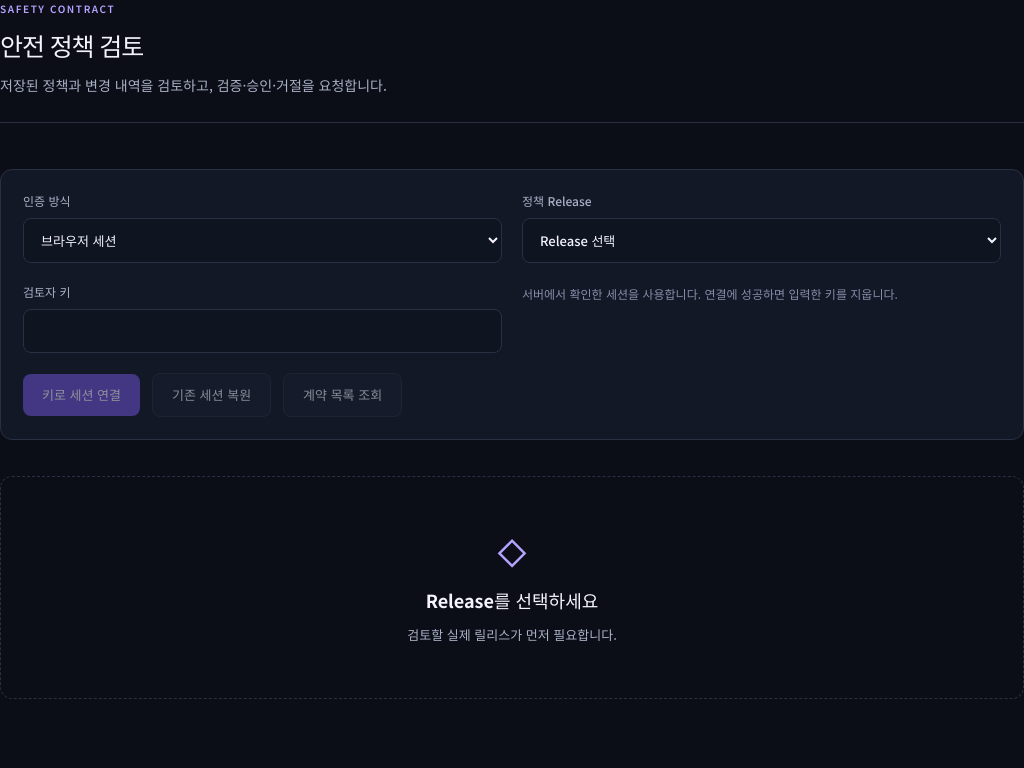
Test: stored contract page selection and authority › requires a real release and explicit credential apply without auto-selecting the first release
The image size is (1024, 768).
Expected: the heading "안전 정책 검토" is shown, x1=0 y1=27 x2=143 y2=63
Expected: the dropdown labelled "정책 Release" shows "Release 선택", x1=522 y1=218 x2=1001 y2=263
Select "로컬 개발 키" in the dropdown labelled "인증 방식" at (262, 241), box x1=23 y1=218 x2=502 y2=263
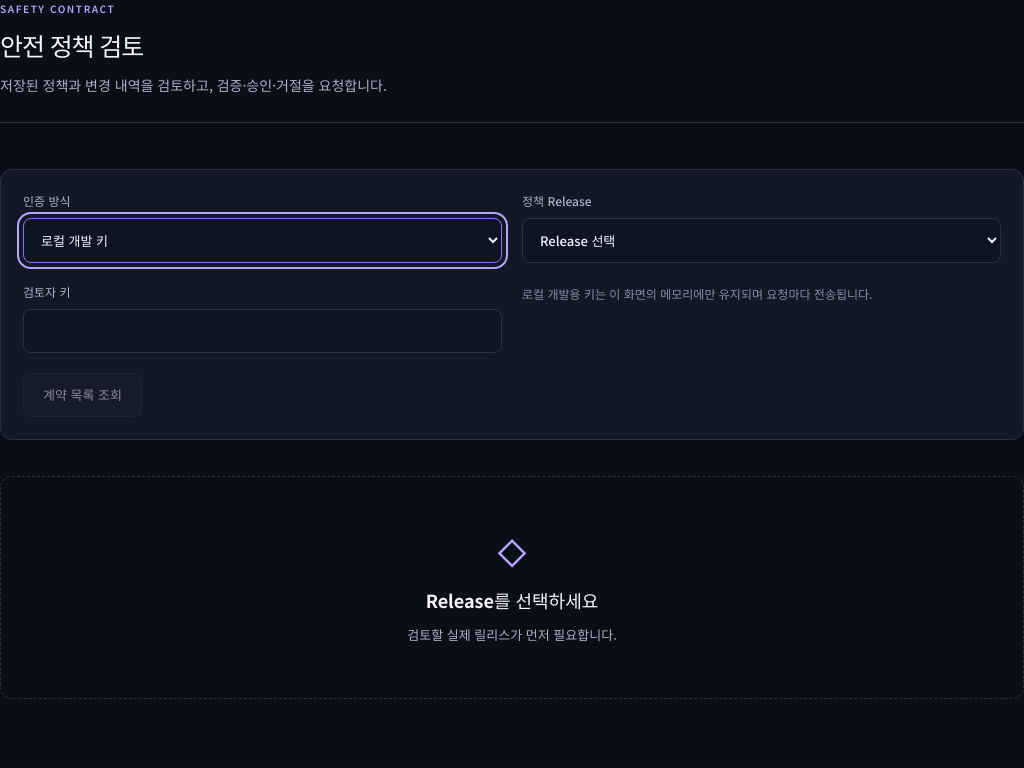
Expected: the button "계약 목록 조회" is disabled, x1=23 y1=373 x2=142 y2=417
Type "SYNTHETIC_PAGE_REVIEWER_CANARY_0123456789" into the password field labelled "검토자 키" at (262, 331), box x1=23 y1=309 x2=502 y2=353
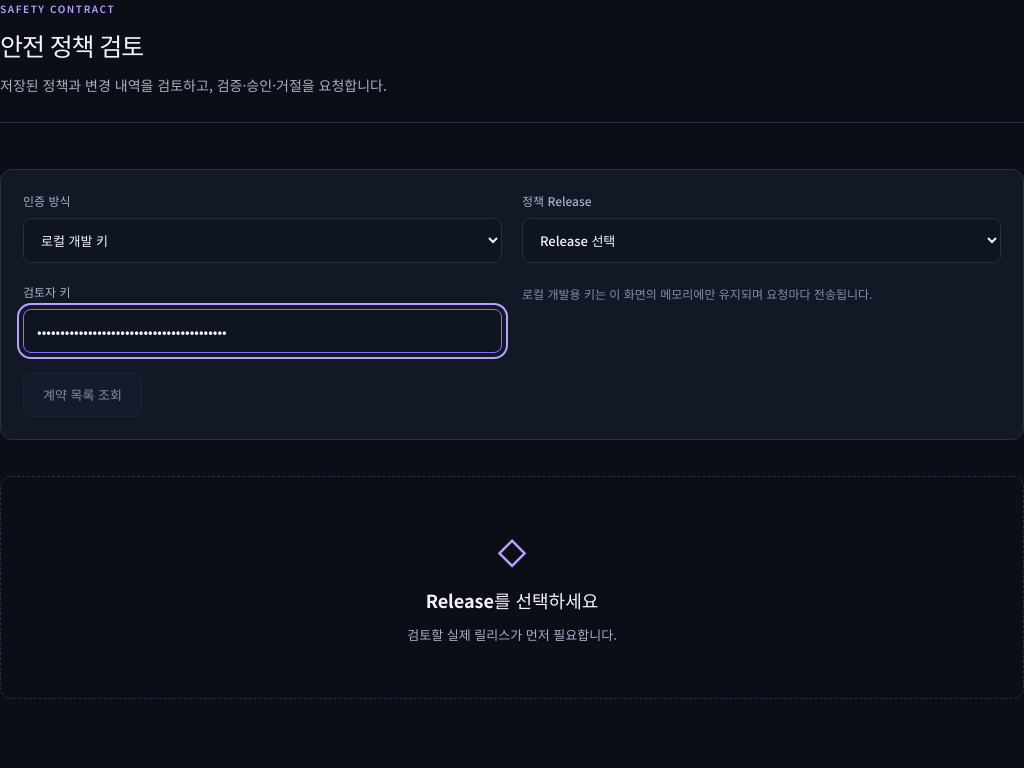
Select "019903ac-abcd-7000-8000-000000000002" in the dropdown labelled "정책 Release" at (762, 241), box x1=522 y1=218 x2=1001 y2=263
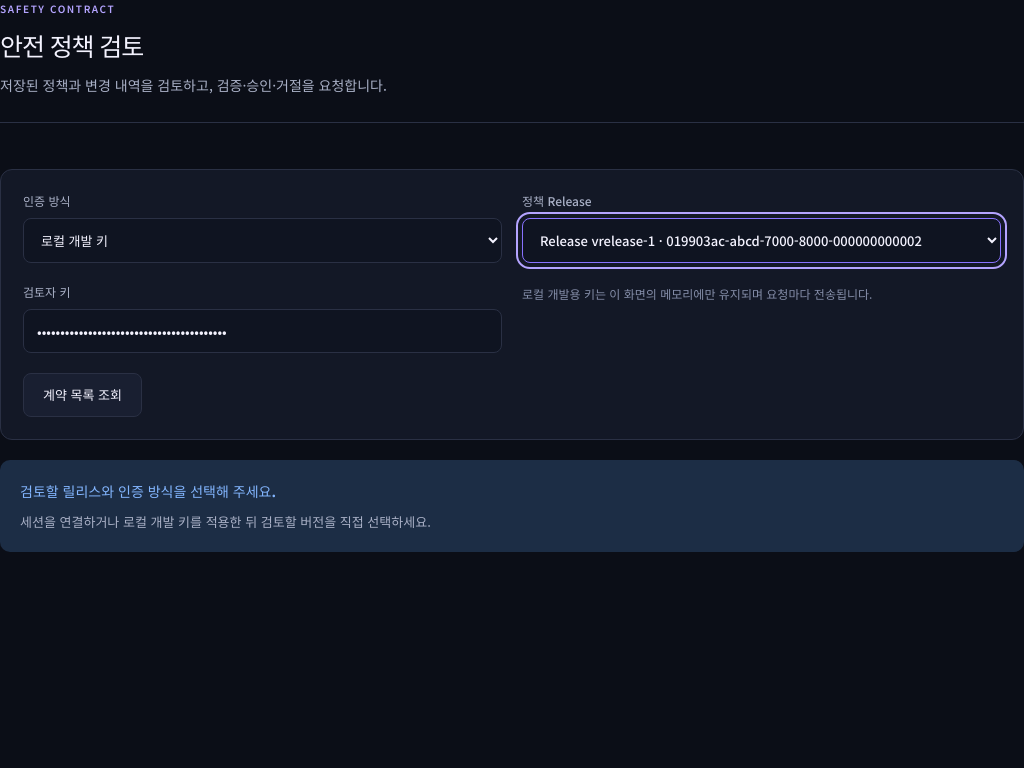
Click the button "계약 목록 조회" at (82, 395), box x1=23 y1=373 x2=142 y2=417
(page scrolled)
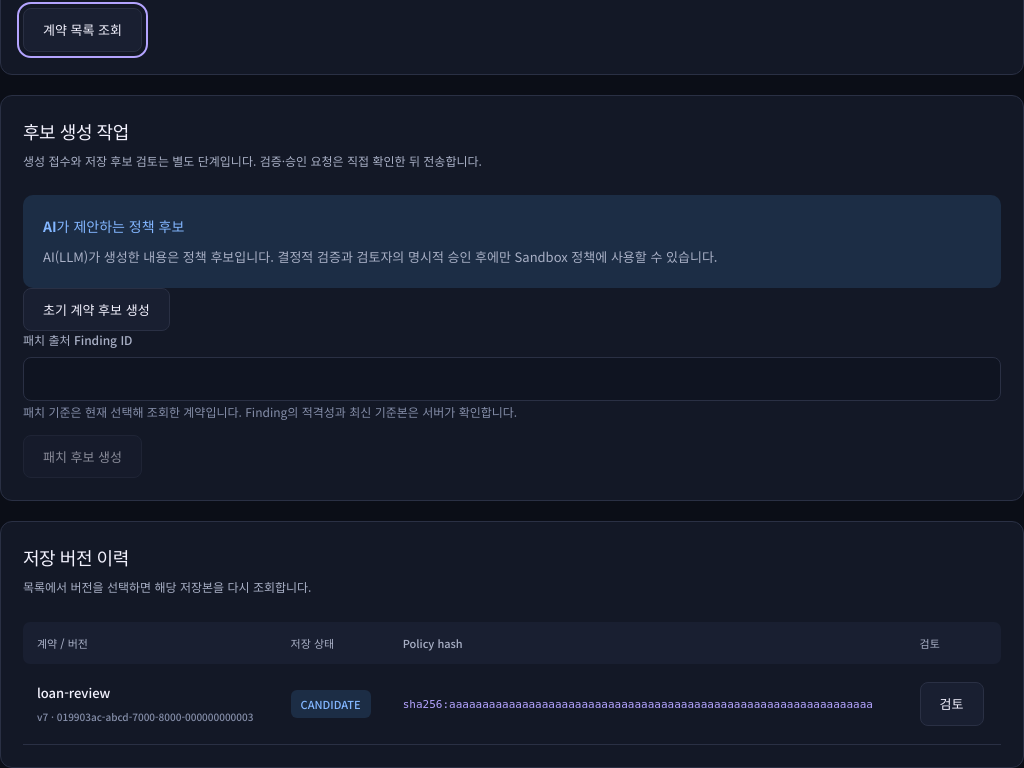
Expected: the button with aria-label "계약 loan-review v7 선택" is shown, x1=920 y1=682 x2=984 y2=726
